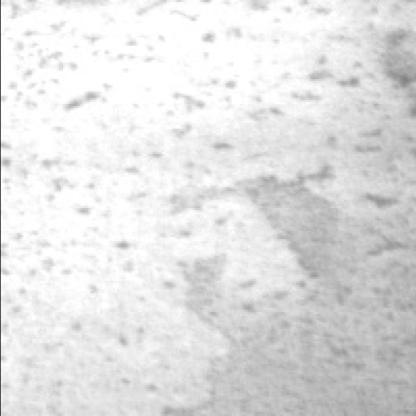pitted_surface: (6, 2, 400, 383)
